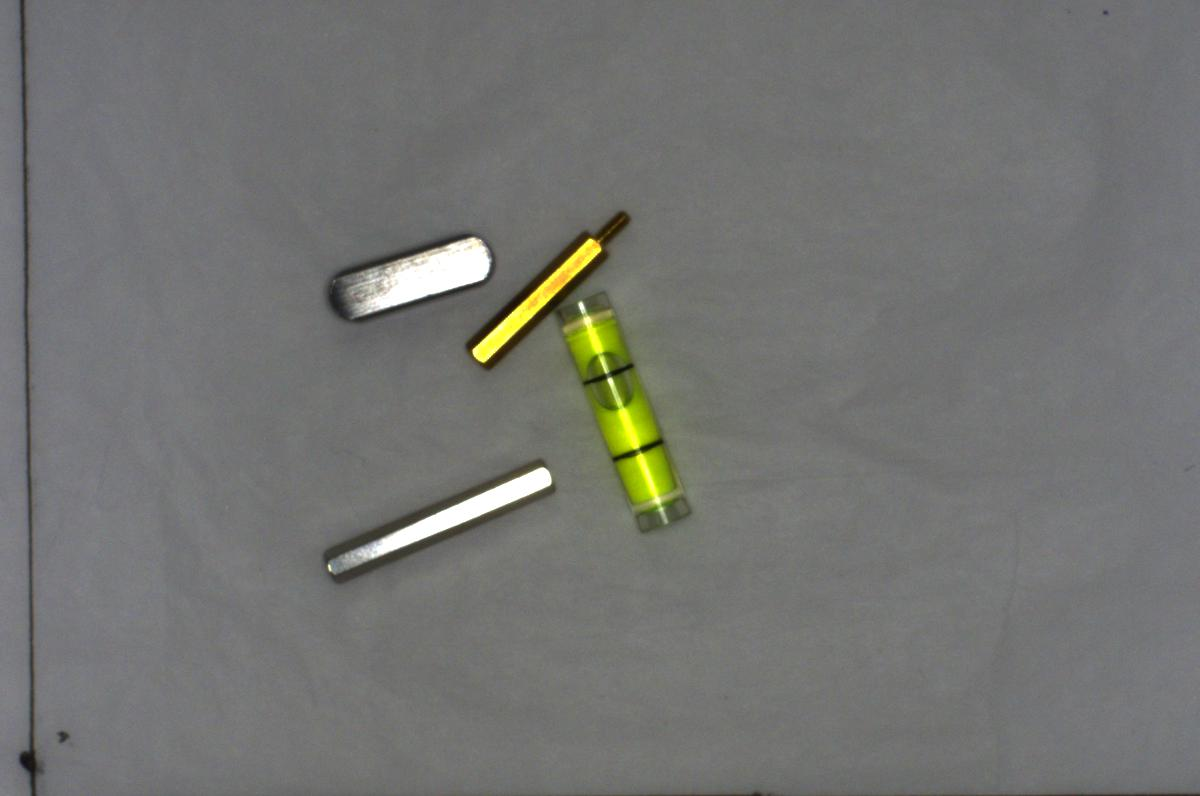Double hexagonal column: (320, 460, 554, 578)
Hexagon pillar: (462, 209, 635, 363)
Horizontal bubble: (561, 287, 692, 534)
Keybar: (318, 232, 498, 320)
